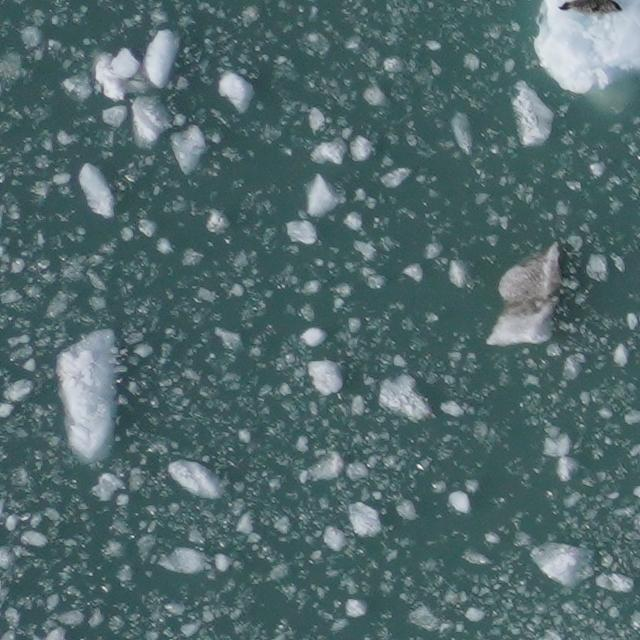seal: (554, 0, 628, 20)
